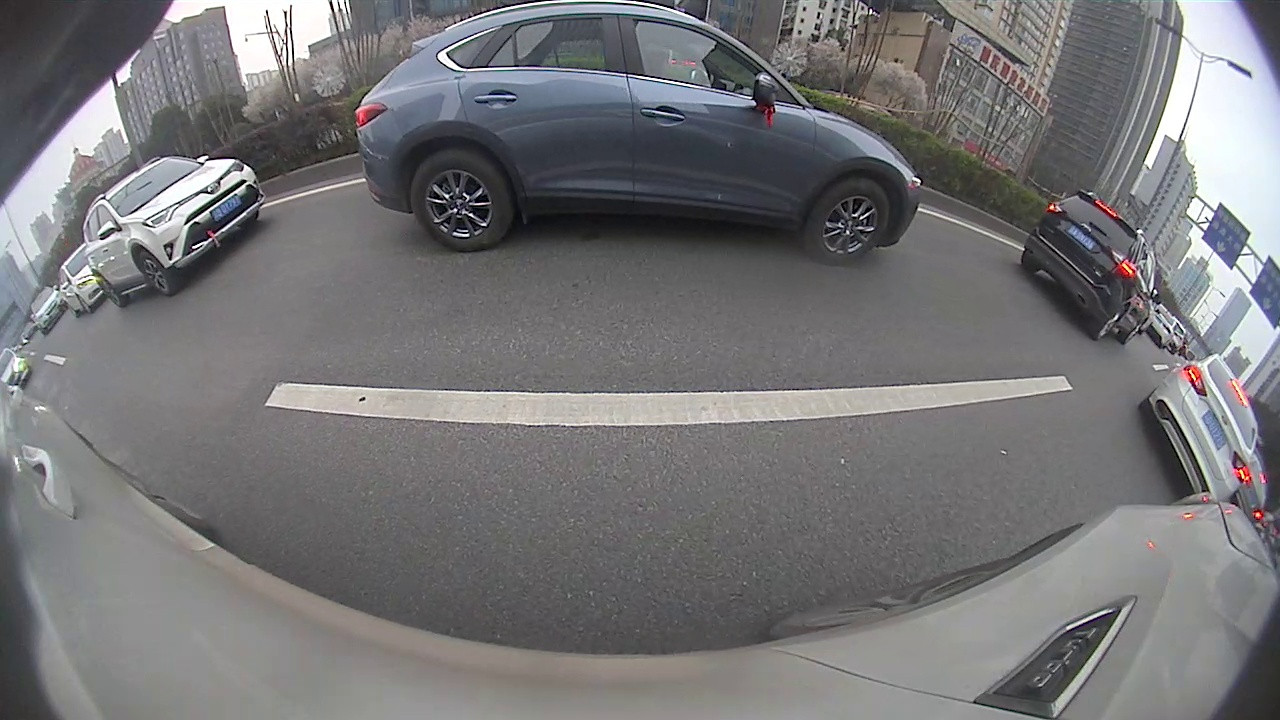car: (356, 1, 922, 265), (78, 155, 268, 308), (1020, 190, 1156, 346), (1139, 353, 1259, 505)
front: (810, 180, 891, 259), (137, 250, 171, 296)
rear: (410, 149, 511, 251), (1094, 307, 1127, 341), (95, 274, 124, 307)
